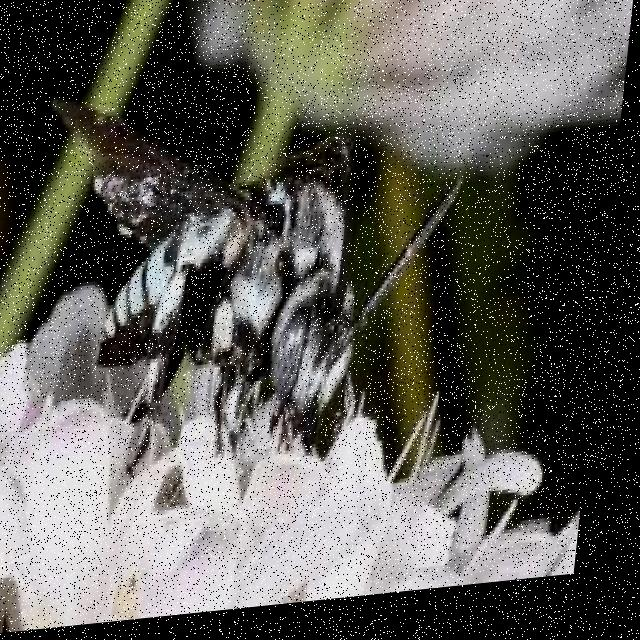Thyreus: (21, 14, 483, 516)
